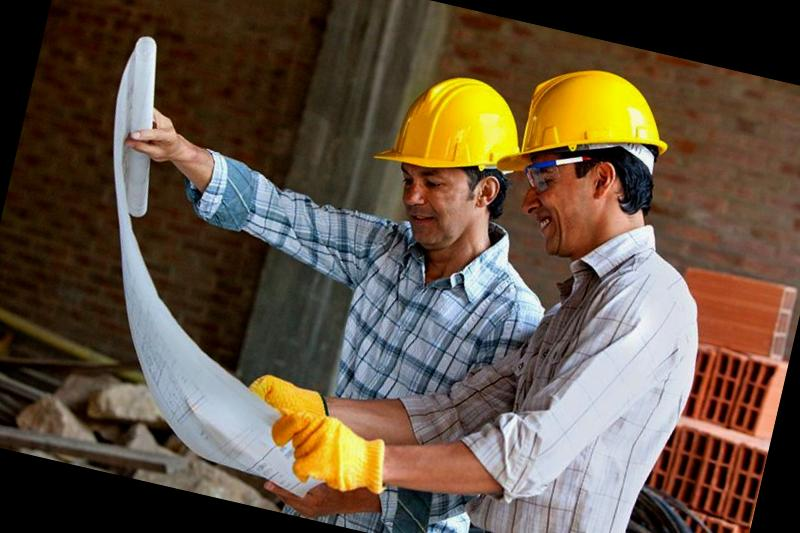helmet: (491, 50, 688, 204), (360, 55, 532, 208)
no_vest: (273, 198, 545, 533), (478, 228, 719, 533)
person: (408, 48, 755, 533), (247, 37, 583, 533)
